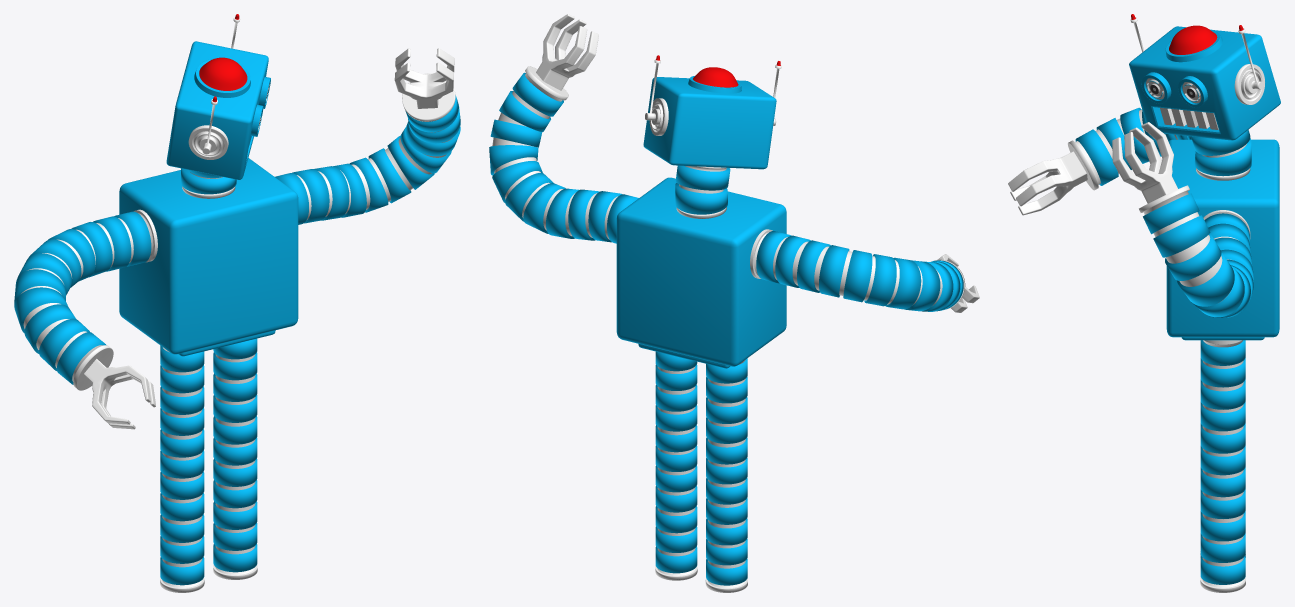
The model's file is robot.gltf.
3 views of the same model, side by side, from view 1: azimuth 30°, elevation 25°; view 2: azimuth 150°, elevation 25°; view 3: azimuth 270°, elevation 25° (orthographic). The views are drawn at different scales.
Parts seen in each view (by area): view 1: Body, Circle.002, Circle.027, Head, Circle.001, Circle.016, Cube, Cube.001, Head alarm, Ears, Circle.005; view 2: Body, Circle.002, Circle.027, Head, Circle.001, Circle.016, Cube, Circle.005, Head alarm, Ears; view 3: Body, Circle.002, Circle.027, Head, Cube, Circle.001, Cube.001, Circle.016, Circle.005, Head alarm, Circle, Mouth (+2 smaller).
Part boxes in pixels (<box>): Body: <box>119,158,298,354</box>; Circle.002: <box>14,95,460,384</box>; Circle.027: <box>160,338,257,585</box>; Head: <box>166,41,268,179</box>; Circle.001: <box>21,73,455,390</box>; Circle.016: <box>160,347,257,592</box>; Cube: <box>394,48,454,108</box>; Cube.001: <box>83,359,155,429</box>; Head alarm: <box>194,57,250,97</box>; Ears: <box>188,14,240,159</box>; Circle.005: <box>181,168,236,194</box>; Body: <box>616,177,786,366</box>; Circle.002: <box>489,72,963,311</box>; Circle.027: <box>655,351,747,585</box>; Head: <box>643,77,776,169</box>; Circle.001: <box>492,66,965,309</box>; Circle.016: <box>655,360,747,592</box>; Cube: <box>536,14,598,90</box>; Circle.005: <box>675,165,730,214</box>; Head alarm: <box>688,67,741,93</box>; Ears: <box>645,55,781,135</box>; Body: <box>1166,139,1279,337</box>; Circle.002: <box>1075,107,1253,317</box>; Circle.027: <box>1200,340,1245,584</box>; Head: <box>1129,26,1280,140</box>; Cube: <box>1112,122,1177,203</box>; Circle.001: <box>1068,109,1250,301</box>; Cube.001: <box>1008,151,1087,215</box>; Circle.016: <box>1200,340,1245,592</box>; Circle.005: <box>1191,130,1251,176</box>; Head alarm: <box>1165,25,1222,62</box>; Circle: <box>1141,72,1207,107</box>; Mouth: <box>1151,106,1220,133</box>.
Size of the model in its own units: 4.94 by 5.72 by 2.51.
